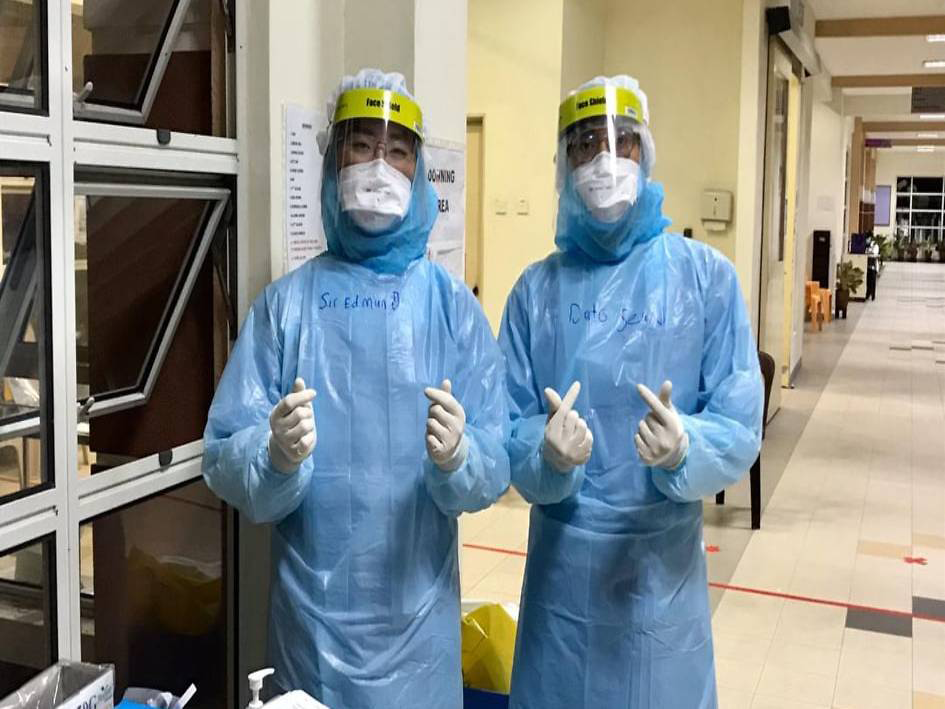Coverall: (201, 70, 509, 701), (493, 73, 761, 703)
Face_Shield: (318, 87, 442, 278), (548, 88, 674, 254)
Gloves: (539, 382, 598, 472), (266, 377, 321, 473), (637, 381, 687, 467), (422, 379, 471, 465)
with_mask: (339, 139, 415, 229), (572, 136, 642, 222)
